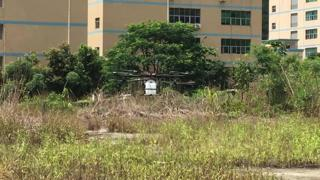UAV: (107, 70, 196, 96)
